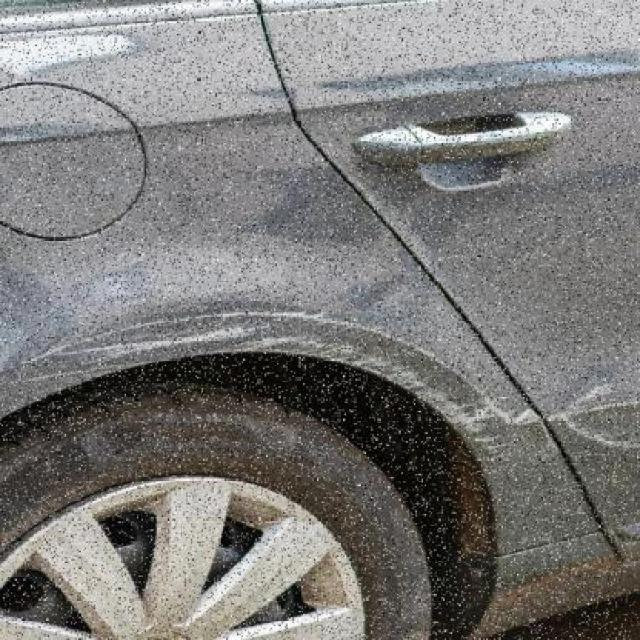doorouter-dent: (374, 3, 638, 631)
quaterpanel-dent: (0, 20, 368, 528)
